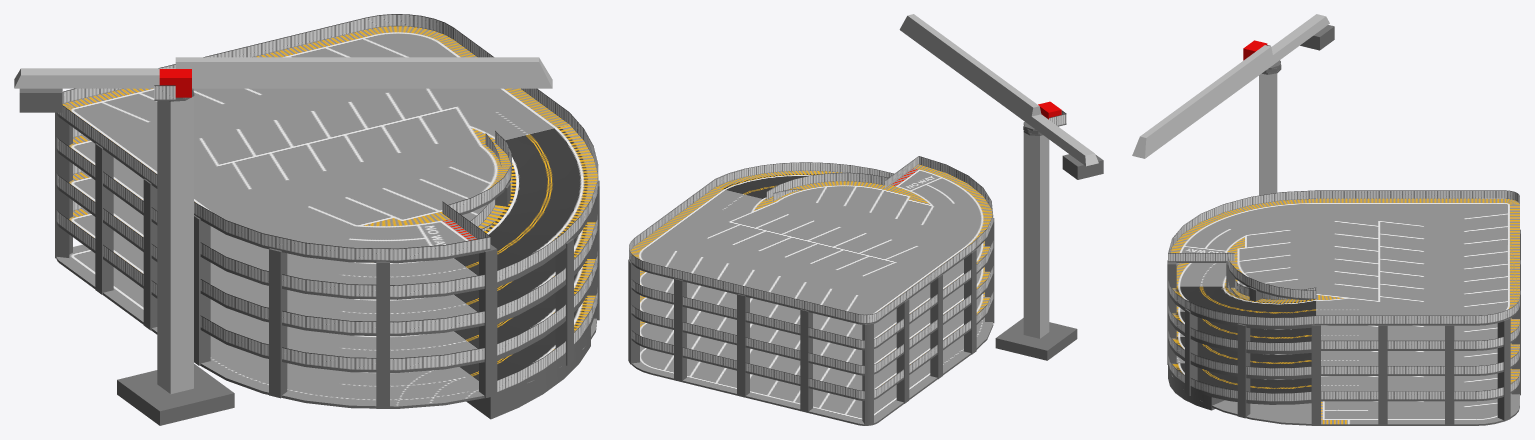
The model's file is Superparking Under Construction Mock.fbx.
3 views of the same model, side by side, from view 1: azimuth 30°, elevation 25°; view 2: azimuth 150°, elevation 25°; view 3: azimuth 270°, elevation 25° (orthographic). The views are drawn at different scales.
Parts seen in each view (by area): view 1: Floor T, Box005, Floor G, Road Sector 45, Box002, Floor Fence T, Floor N4, Floor N2, Floor N3, Floor Fence N4, Floor Fence N3, Floor Fence N2 (+22 smaller); view 2: Floor T, Floor G, Floor Fence T, Box002, Floor N3, Floor N2, Floor N4, Box005, Floor Fence N4, Floor Fence N3, Floor Fence N2, Box001 (+13 smaller); view 3: Floor T, Floor G, Floor Fence T, Floor N4, Box005, Road Sector 45, Floor N2, Floor N3, Box002, Road Sector 34, Road Sector 23, Road Sector 12 (+18 smaller).
Boxes of the visible parts, x1,y1,x2,y2 form: Floor T: (56,26,569,263); Box005: (175,57,552,88); Floor G: (56,244,596,408); Road Sector 45: (454,124,598,287); Box002: (157,96,193,393); Floor Fence T: (57,14,569,260); Floor N4: (56,135,487,299); Floor N2: (56,208,484,372); Floor N3: (56,172,484,336); Floor Fence N4: (56,127,493,297); Floor Fence N3: (56,164,484,333); Floor Fence N2: (56,201,484,370); Floor T: (629,164,993,324); Floor G: (631,317,993,425); Floor Fence T: (629,156,993,323); Box002: (1023,132,1049,338); Floor N3: (631,267,993,375); Floor N2: (631,292,993,400); Floor N4: (631,241,993,350); Box005: (899,14,1041,124); Floor Fence N4: (631,240,993,348); Floor Fence N3: (631,265,993,373); Floor Fence N2: (631,291,993,399); Box001: (995,318,1077,360); Floor T: (1168,198,1519,325); Floor G: (1171,356,1519,425); Floor Fence T: (1168,190,1519,323); Floor N4: (1176,263,1519,350); Box005: (1132,45,1274,158); Road Sector 45: (1168,286,1316,329); Floor N2: (1176,331,1519,401); Floor N3: (1176,305,1519,375); Box002: (1259,73,1277,195); Road Sector 34: (1168,311,1311,354); Road Sector 23: (1168,337,1311,379); Road Sector 12: (1168,363,1311,404).
Bounding box in the file's own units: 59.68 × 37.5 × 52.49.
